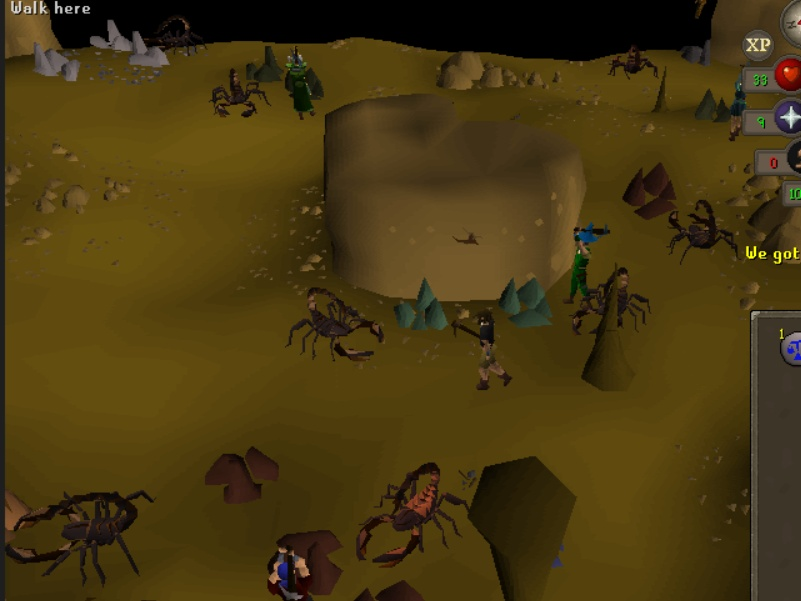adamant: (391, 276, 452, 337), (496, 271, 557, 332)
coal: (692, 80, 734, 132), (284, 49, 326, 101), (243, 36, 285, 88)
iron: (199, 439, 286, 510), (269, 525, 356, 596), (621, 157, 693, 228)
tin: (30, 35, 85, 85), (126, 26, 173, 72), (89, 13, 132, 55)
